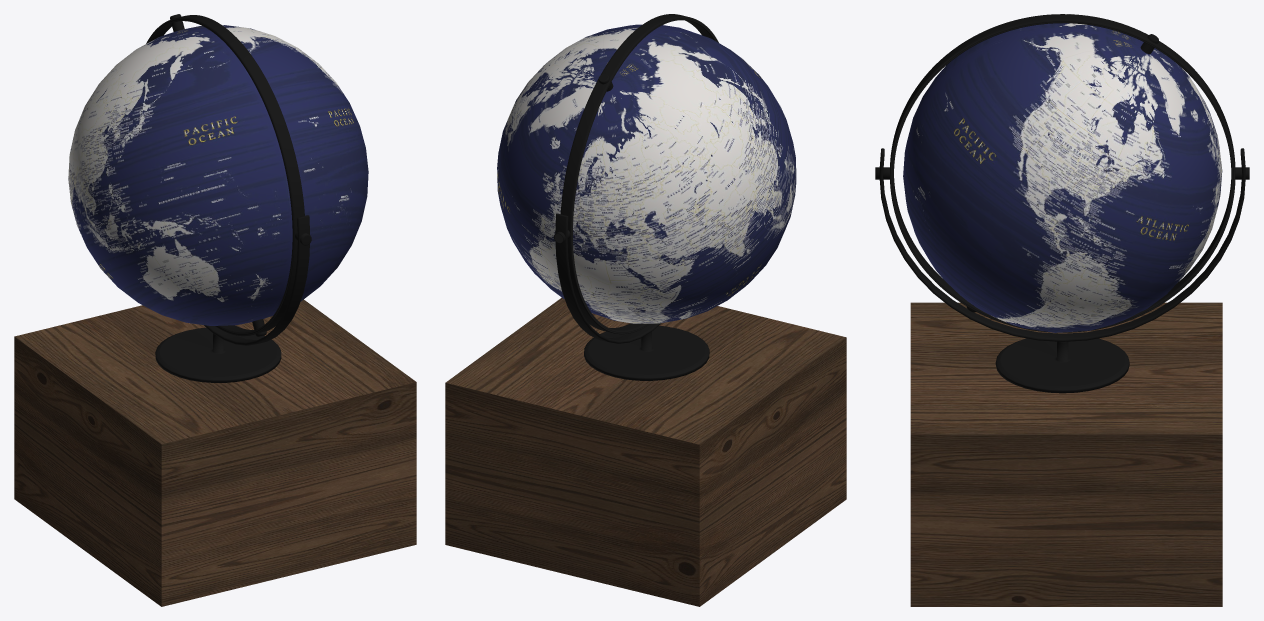
The model's file is Globe.glb.
3 views of the same model, side by side, from view 1: azimuth 30°, elevation 25°; view 2: azimuth 150°, elevation 25°; view 3: azimuth 270°, elevation 25° (orthographic). The views are drawn at different scales.
Visible parts, largest first — view 1: Globe - Blue White; view 2: Globe - Blue White; view 3: Globe - Blue White.
Part boxes in pixels (box(x1,y1,x2,y2)): Globe - Blue White: box(14, 14, 416, 606); Globe - Blue White: box(445, 14, 846, 606); Globe - Blue White: box(875, 14, 1249, 606).
Bounding box in the file's own units: 0.7472 × 1.36 × 0.8788.
Materials: 3 (2 with a texture image).
